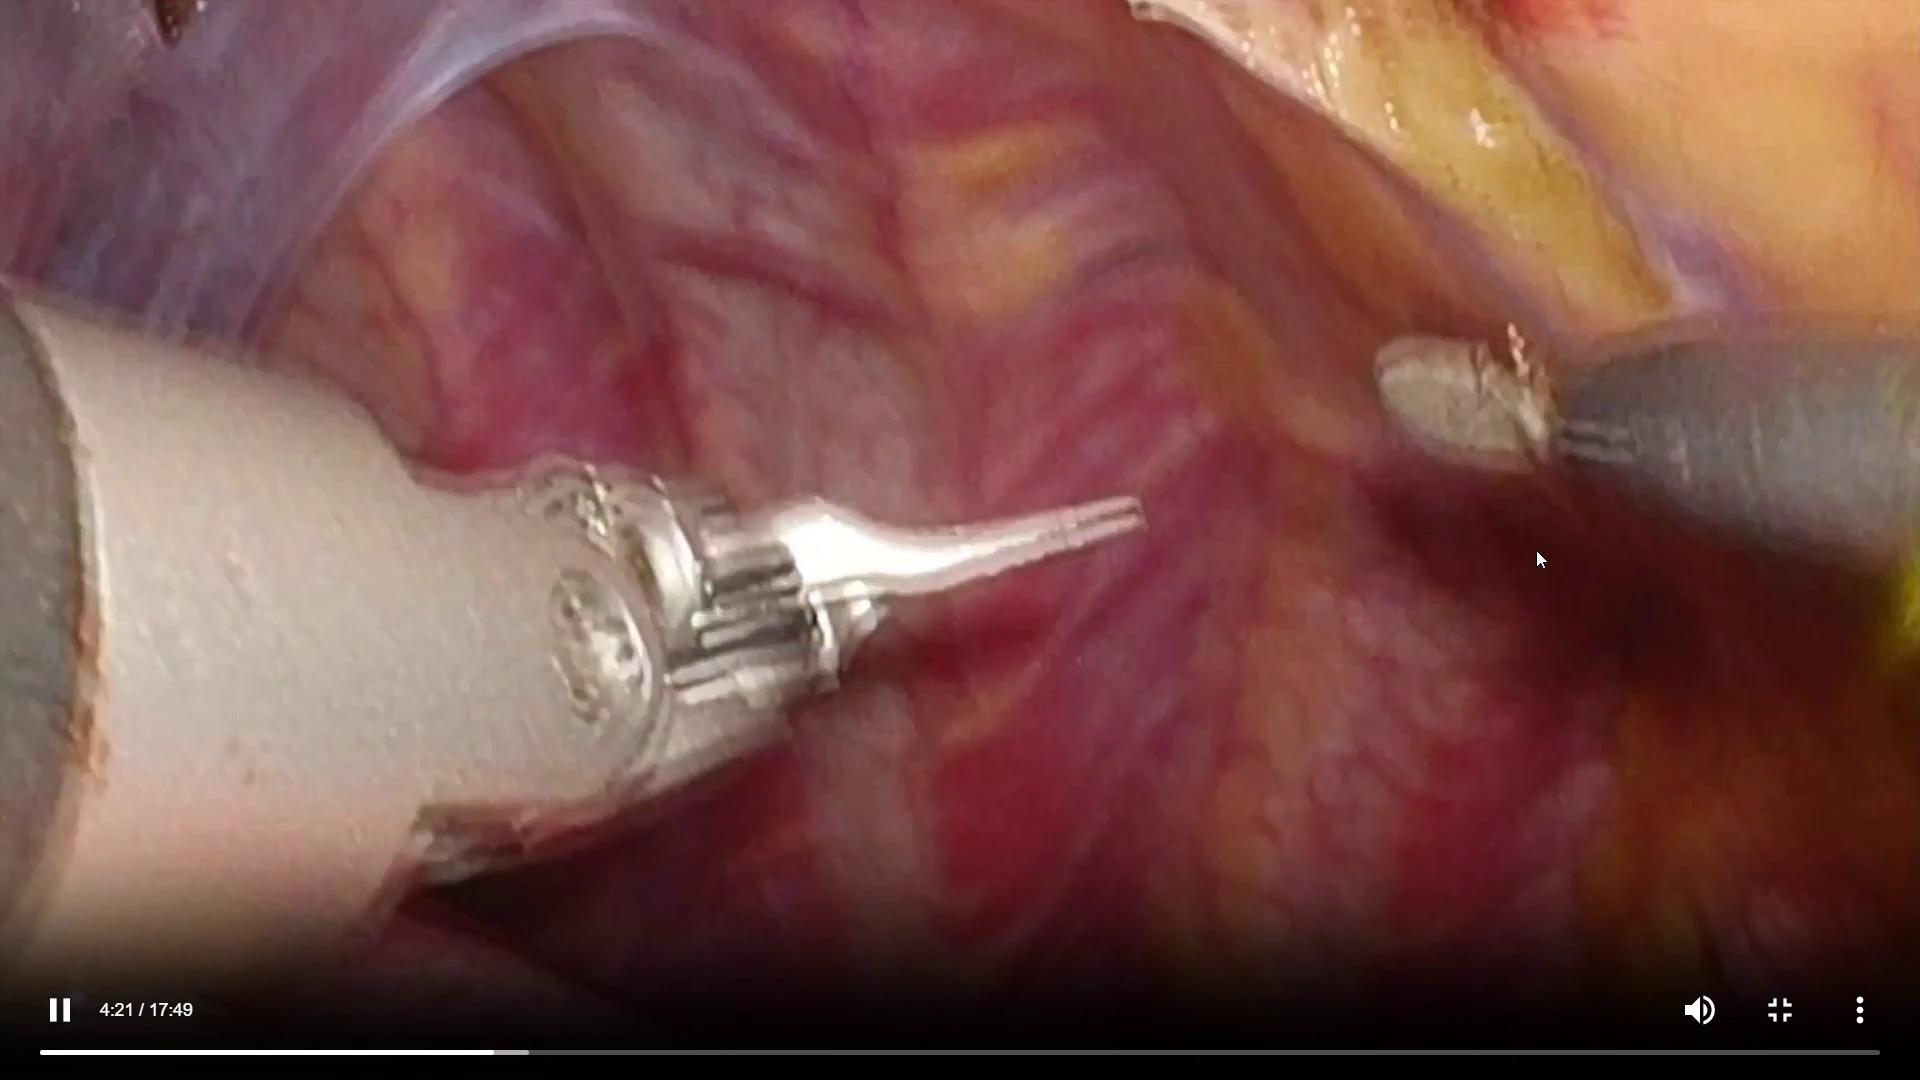Cautery_Spatula: (1379, 315, 1920, 572), (1375, 338, 1567, 479)
Debakey: (678, 448, 1155, 723), (683, 489, 1150, 724)
